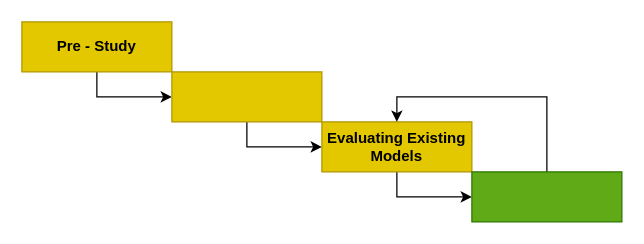
Image size: 644x244. Some labels were removed from this diagram. The shapes that lost their labels are listed below. From the top down, each one's centre as x and y in pixels, then its label:
(x=246, y=96): Designing Solution
(x=546, y=196): Development
